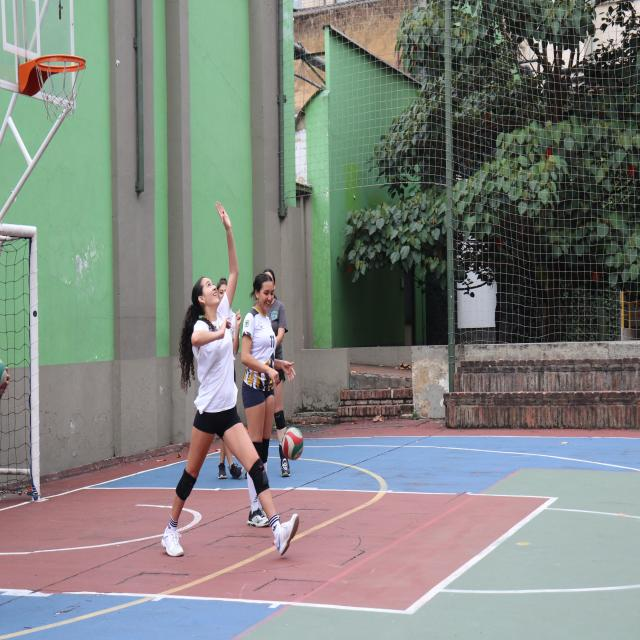volleyball: (281, 427, 304, 461)
